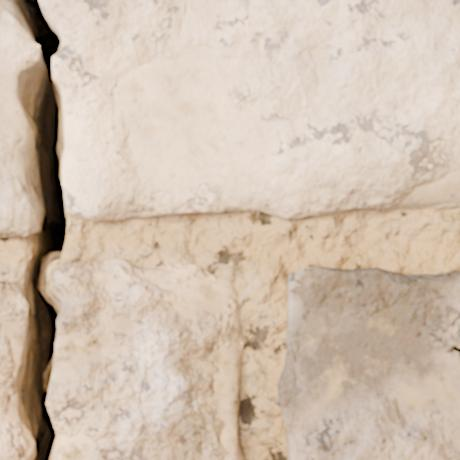brick: (278, 267, 459, 459)
broken_brick: (40, 0, 459, 221), (47, 257, 246, 459), (0, 0, 38, 238), (0, 279, 30, 459)
crack: (2, 0, 68, 459), (445, 344, 459, 355)
